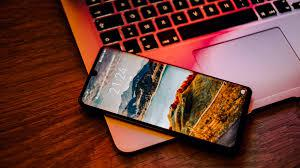Smartphone: (78, 46, 249, 151)
